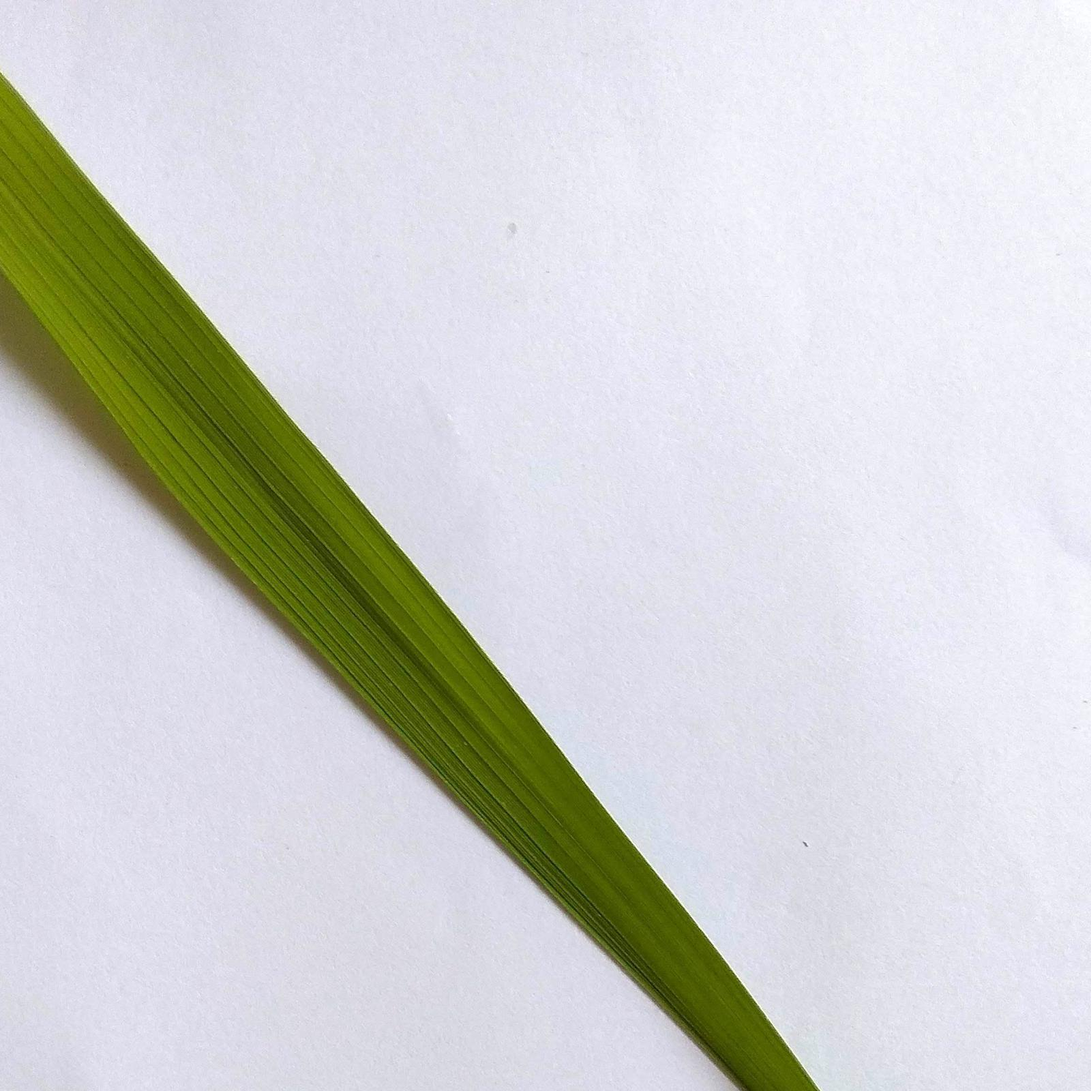Healthy: (0, 76, 818, 1090)
